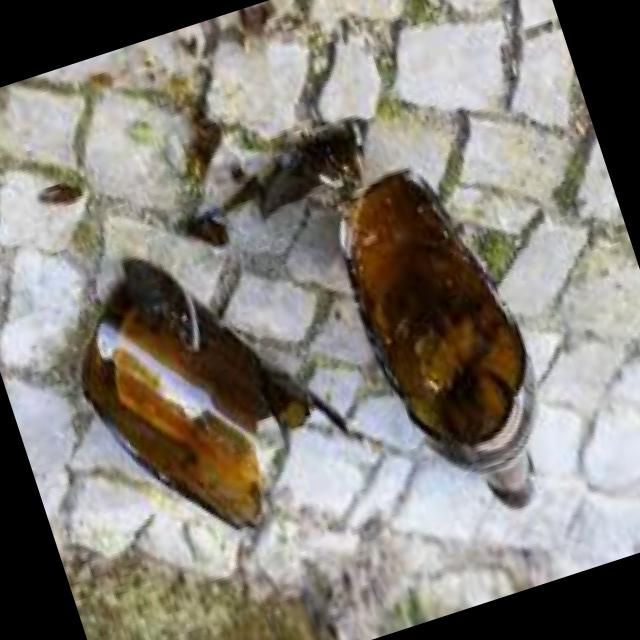PecahanKaca: (47, 214, 374, 573), (318, 147, 576, 542)
